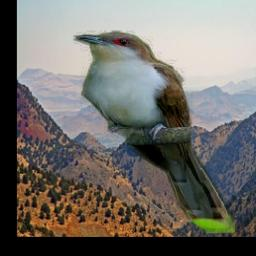Cuckoo: (74, 31, 236, 233)
